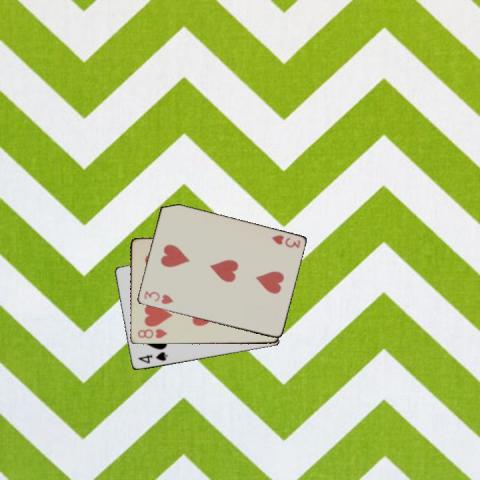3h: (140, 288, 174, 306), (269, 232, 301, 249)
4s: (135, 349, 169, 365)
8h: (135, 326, 168, 340)
